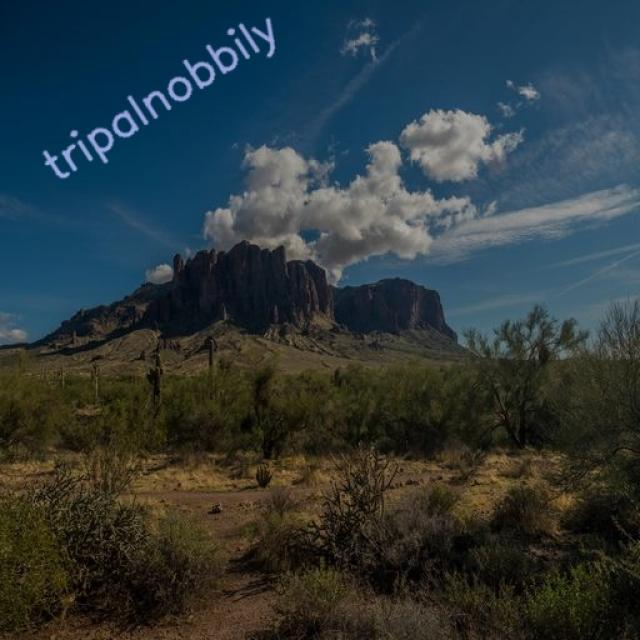watermark: (45, 1, 282, 189)
